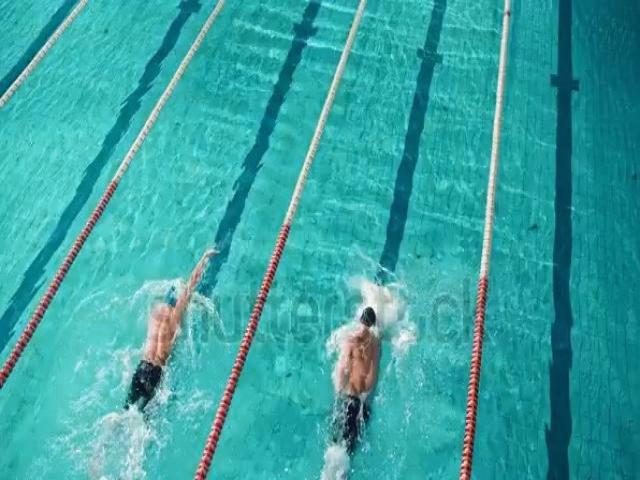swimming: (115, 225, 223, 425), (312, 285, 393, 479)
